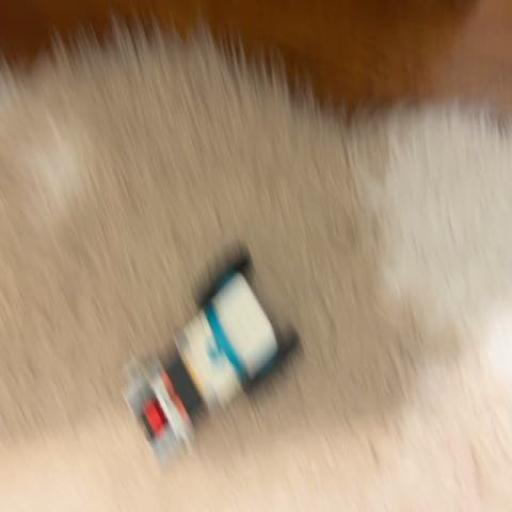Opponent: (123, 248, 302, 462)
